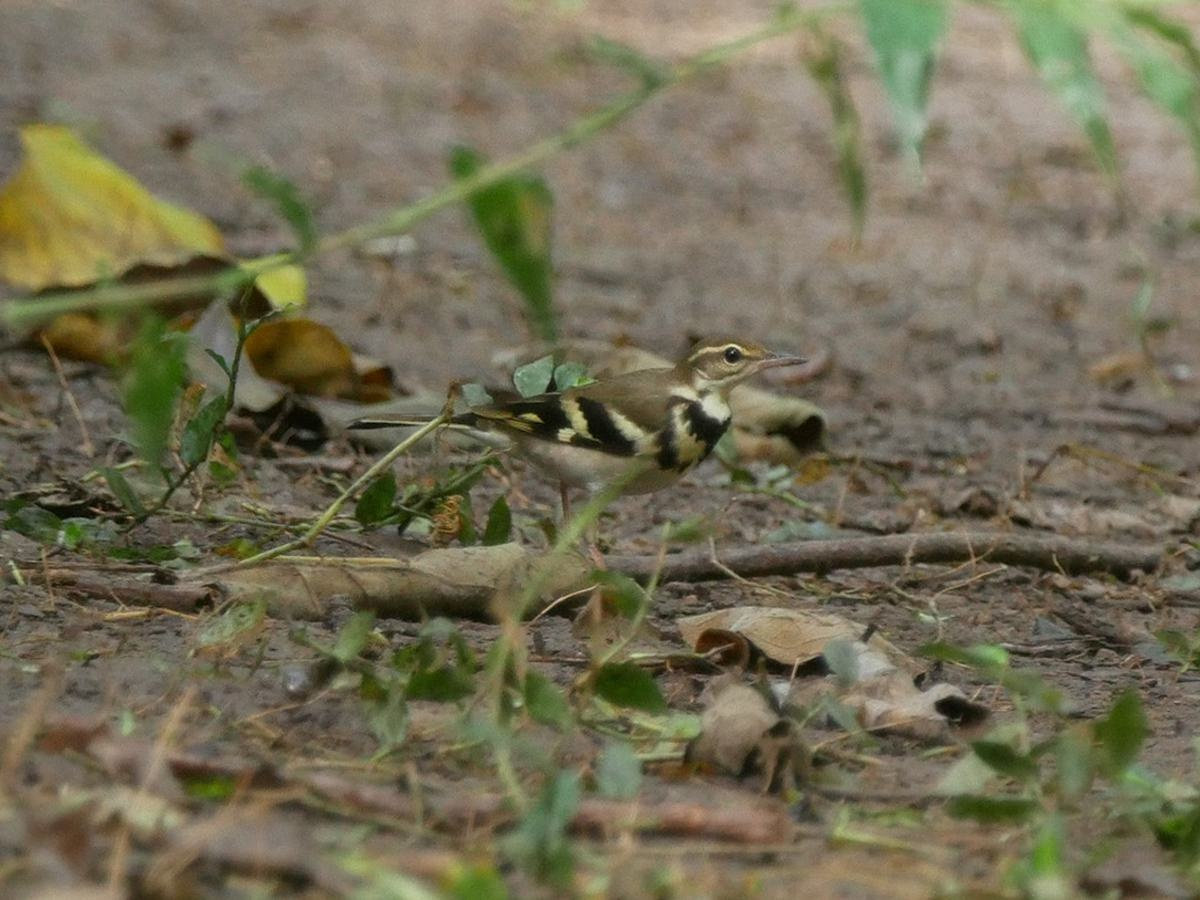wagtail: (430, 328, 778, 507)
